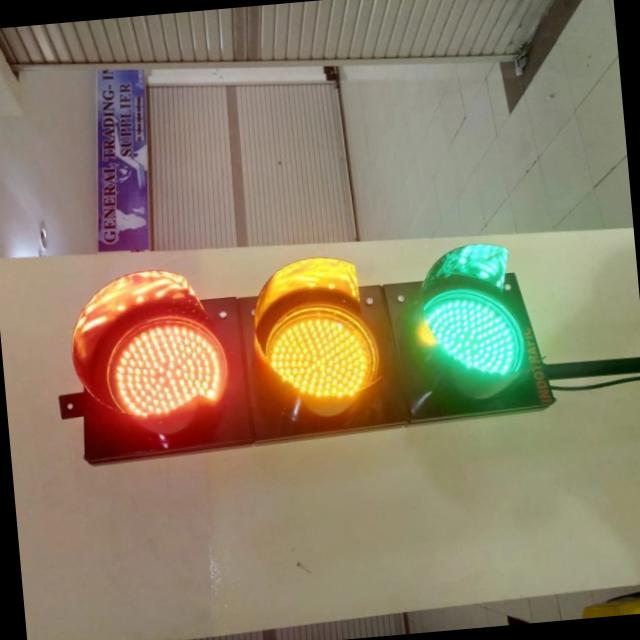green-lights: (414, 282, 526, 383)
red-lights: (104, 310, 232, 418)
yellow-lights: (251, 296, 384, 404)
